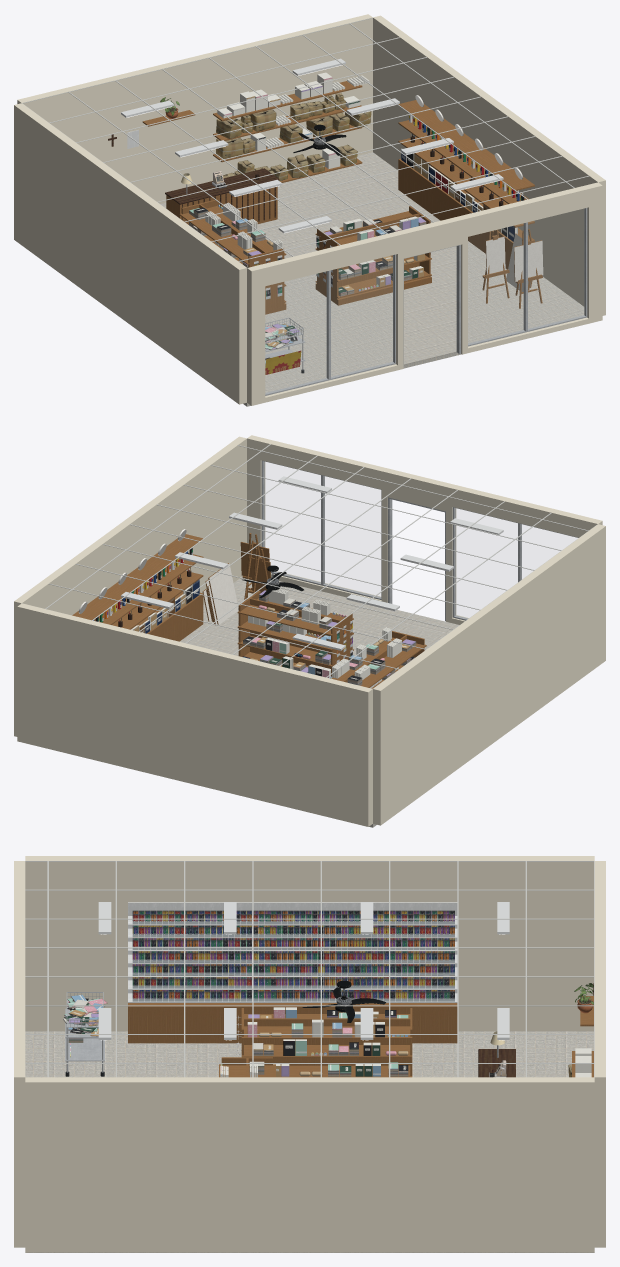
The model's file is gg_rongendian_interior.glb.
3 views of the same model, one above another, from view 1: azimuth 30°, elevation 25°; view 2: azimuth 150°, elevation 25°; view 3: azimuth 270°, elevation 25° (orthographic). The views are drawn at different scales.
Visible parts, largest first — view 1: WALL_W, WALL_N, S_floor, WALL_E, S_wood, WALL_S, CEIL_vc, tz_rongendian_interior_inst, S_paper, S_packs, WALL_Sfix_steel, S_wood_d (+5 smaller); view 2: WALL_N, WALL_W, WALL_E, S_wood, WALL_S, CEIL_vc, S_floor, WALL_Sfix_steel, S_packs, S_paper, S_stack, S_canvas (+1 smaller); view 3: WALL_E, WALL_W, S_packs, S_wood, CEIL_vc, S_floor, S_plastic_w, WALL_N, WALL_S, S_steel, S_stack, S_paper (+2 smaller).
Boxes of the visible parts, <box> form: WALL_W: <box>14,103,246,404</box>; WALL_N: <box>17,14,372,203</box>; S_floor: <box>160,152,584,406</box>; WALL_E: <box>373,15,605,315</box>; S_wood: <box>142,81,542,314</box>; WALL_S: <box>247,182,602,405</box>; CEIL_vc: <box>22,17,589,267</box>; tz_rongendian_interior_inst: <box>216,93,371,181</box>; S_paper: <box>205,72,517,286</box>; S_packs: <box>189,77,521,363</box>; WALL_Sfix_steel: <box>265,208,587,395</box>; S_wood_d: <box>108,134,279,221</box>; WALL_N: <box>17,603,372,826</box>; WALL_W: <box>373,524,605,825</box>; WALL_E: <box>14,436,246,736</box>; S_wood: <box>72,533,426,688</box>; WALL_S: <box>247,435,602,624</box>; CEIL_vc: <box>22,444,597,688</box>; S_floor: <box>180,576,459,827</box>; WALL_Sfix_steel: <box>261,460,578,621</box>; S_packs: <box>98,549,415,680</box>; S_paper: <box>131,584,401,688</box>; S_stack: <box>243,594,416,685</box>; S_canvas: <box>203,563,238,624</box>; WALL_E: <box>25,1077,594,1252</box>; WALL_W: <box>25,856,594,1031</box>; S_packs: <box>63,910,454,1076</box>; S_wood: <box>128,996,593,1077</box>; CEIL_vc: <box>25,861,594,1077</box>; S_floor: <box>25,1031,594,1252</box>; S_plastic_w: <box>128,902,457,1056</box>; WALL_N: <box>594,861,605,1247</box>; WALL_S: <box>14,861,25,1247</box>; S_steel: <box>65,992,498,1072</box>; S_stack: <box>63,996,408,1076</box>; S_paper: <box>220,1007,591,1077</box>.
Bounding box in the file's own units: 9.4 × 3.4 × 10.4.
Materials: 24 (20 with a texture image).
